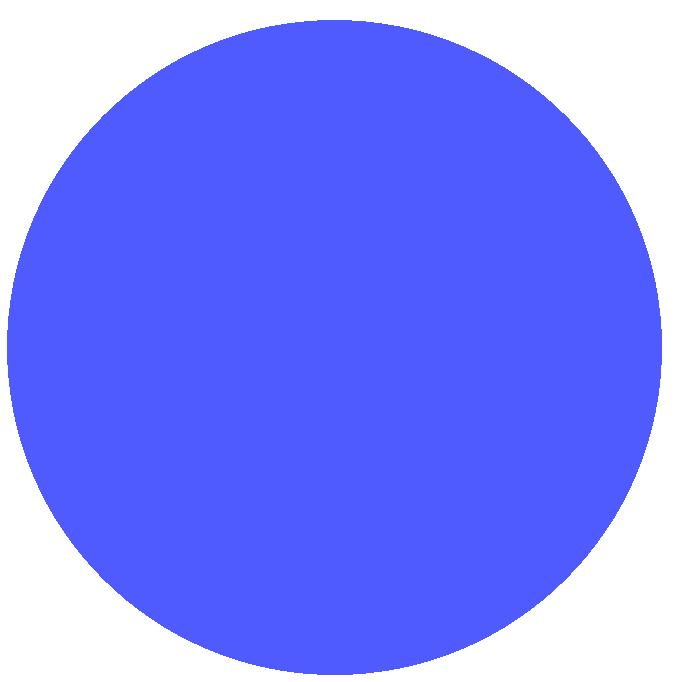blue_circle: (0, 3, 676, 682)
